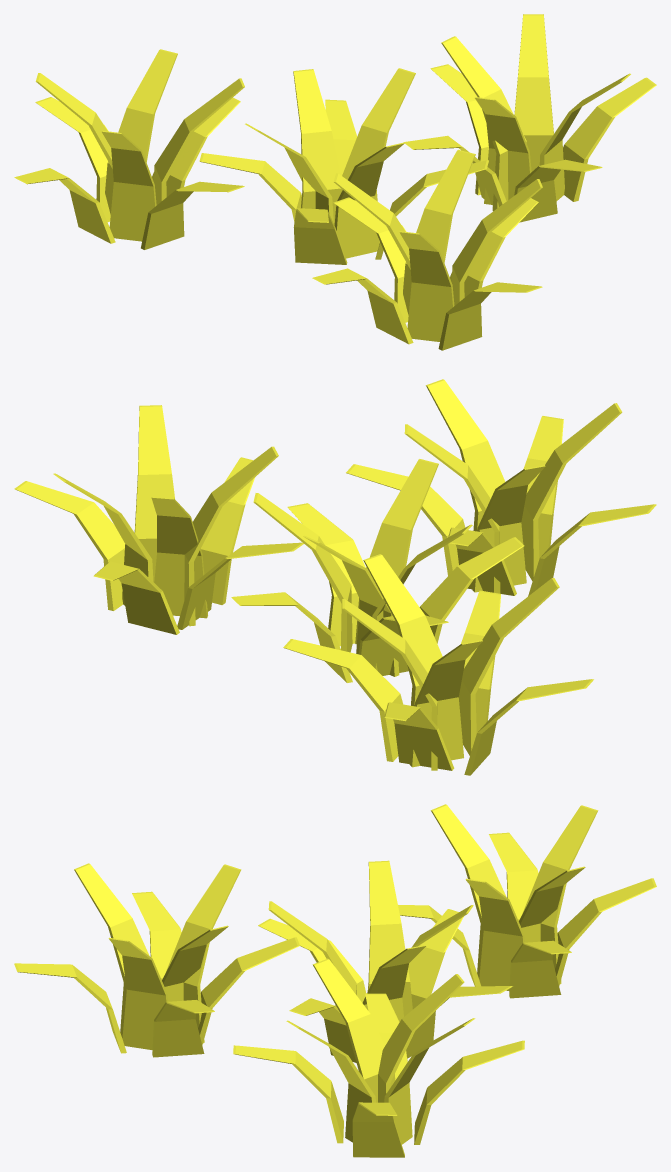
Rendered from grass_2.fbx.
The picture shows the model from 3 angles, top to bottom: view 1: azimuth 30°, elevation 25°; view 2: azimuth 150°, elevation 25°; view 3: azimuth 270°, elevation 25°; orthographic projection. The views are drawn at different scales.
Visible parts, largest first — view 1: grass_2; view 2: grass_2; view 3: grass_2.
Part boxes in pixels (x1,y1,x2,y2): grass_2: (14, 14, 656, 350); grass_2: (14, 379, 656, 775); grass_2: (14, 804, 656, 1157).
Bounding box in the file's own units: 104 × 24.17 × 99.47.
